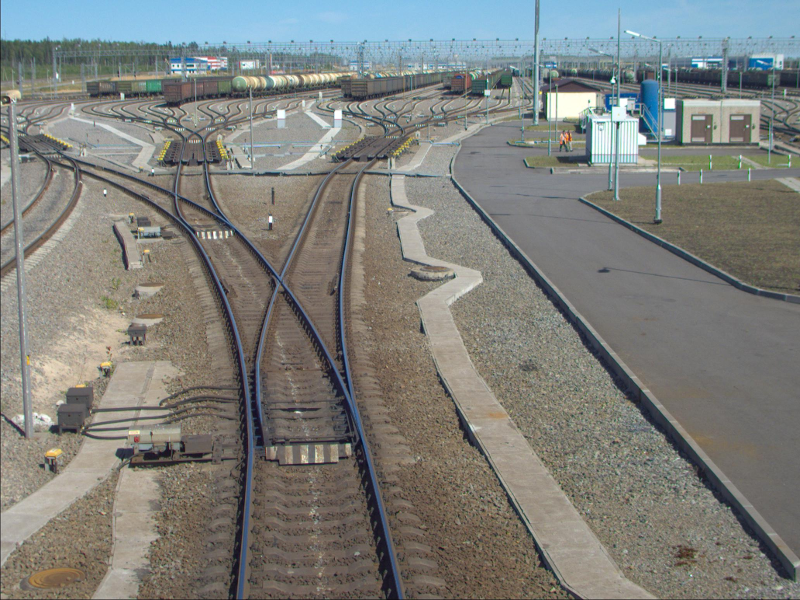left: (210, 268, 366, 438), (163, 191, 234, 229)
